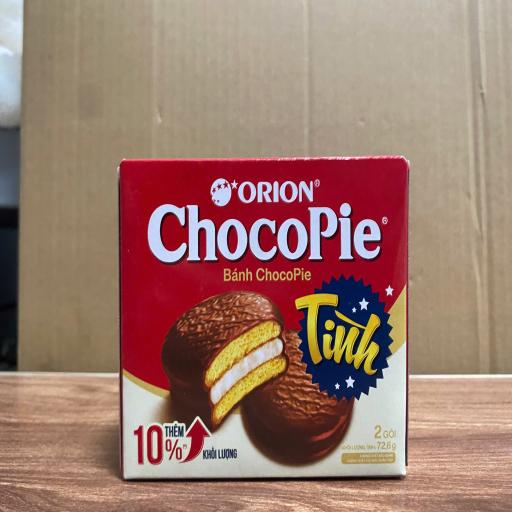chocopie: (118, 157, 406, 479)
